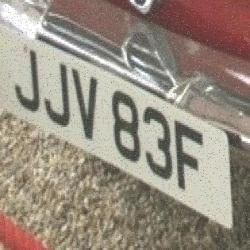LicensePlate: (0, 20, 238, 230)
